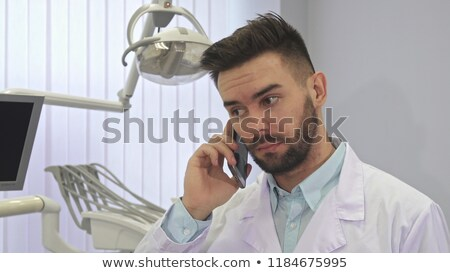phone: (215, 112, 252, 191)
talk: (188, 76, 313, 205)
